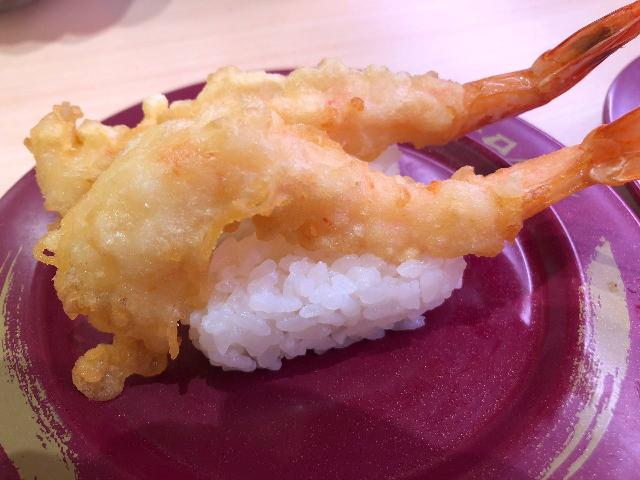janred: (6, 65, 597, 480), (596, 57, 640, 206)
